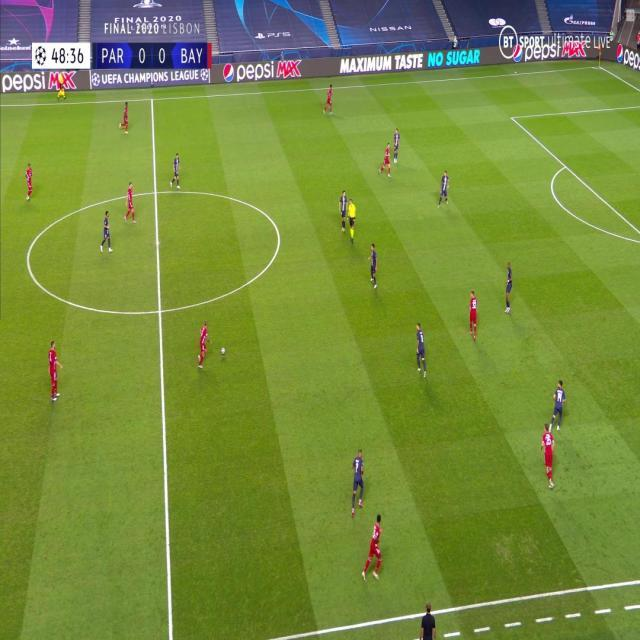ball: (221, 346, 226, 355)
player: (362, 515, 385, 582), (540, 423, 556, 490), (47, 340, 63, 403), (351, 449, 366, 516), (549, 380, 567, 433), (196, 321, 212, 369), (414, 322, 427, 377), (467, 289, 479, 343), (123, 182, 137, 224), (503, 262, 514, 314), (100, 210, 113, 252), (437, 170, 450, 208), (170, 151, 182, 189), (379, 143, 392, 178), (368, 243, 378, 288), (339, 189, 348, 235), (323, 83, 335, 116), (24, 162, 34, 201), (119, 102, 131, 134), (392, 128, 401, 164)
referee: (347, 196, 357, 244), (57, 72, 69, 100)
